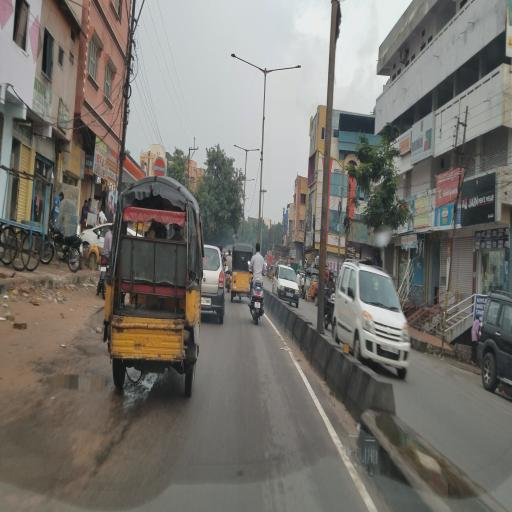street_light_0: (265, 48, 307, 80), (224, 50, 266, 82), (247, 139, 265, 159), (229, 139, 247, 159)
